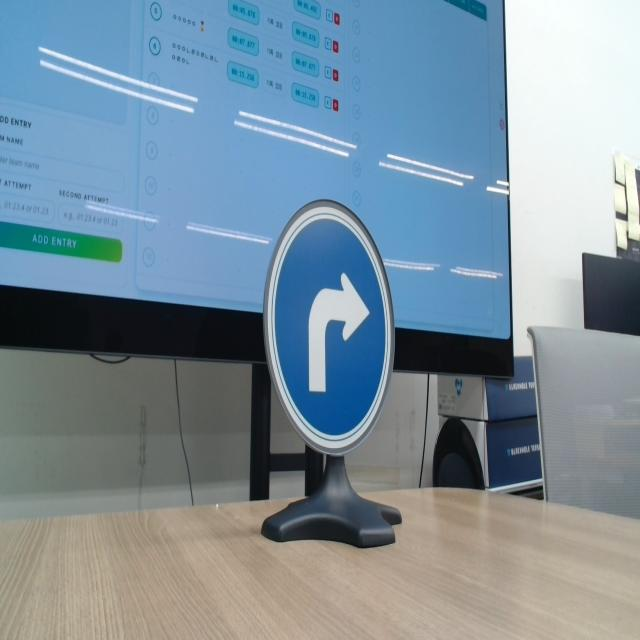right_dierection: (258, 201, 398, 455)
